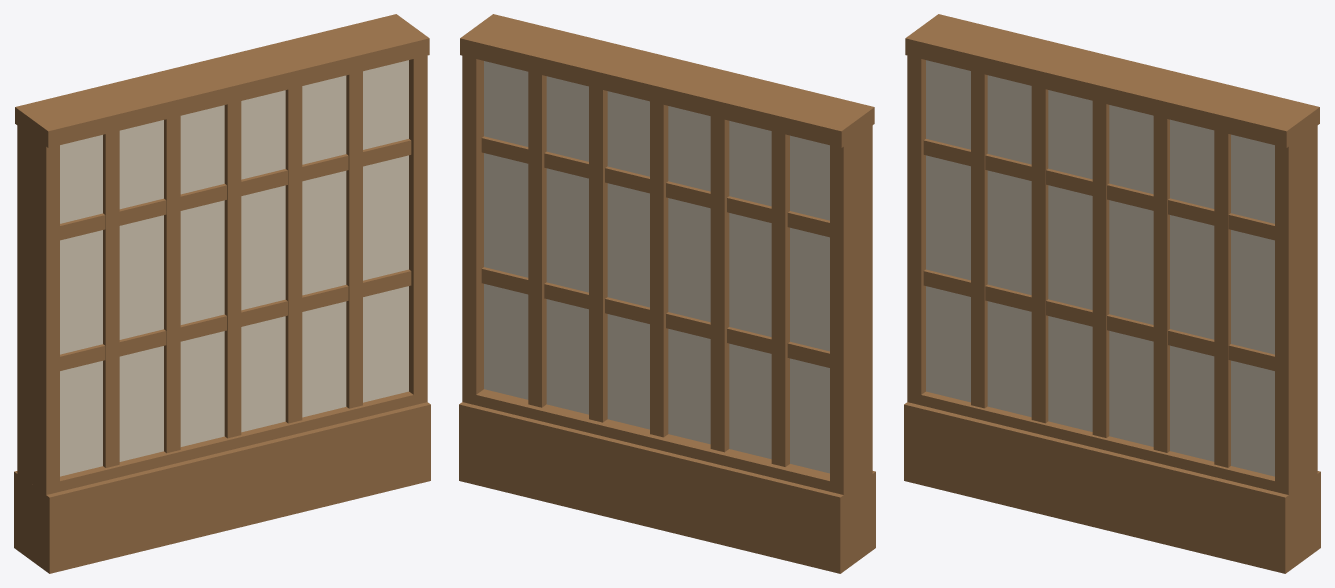
The model's file is Shoji Interior.glb.
The picture shows the model from 3 angles, left to right: view 1: azimuth 30°, elevation 25°; view 2: azimuth 150°, elevation 25°; view 3: azimuth 330°, elevation 25°; orthographic projection.
Parts seen in each view (by area): view 1: Wall_Shoji_Interior; view 2: Wall_Shoji_Interior; view 3: Wall_Shoji_Interior.
Boxes of the visible parts, x1,y1,x2,y2 form: Wall_Shoji_Interior: [14, 14, 430, 573]; Wall_Shoji_Interior: [459, 14, 875, 573]; Wall_Shoji_Interior: [904, 14, 1320, 573].
Bounding box in the file's own units: 4 × 4.43 × 0.6445.
2 materials, 1 textured.
